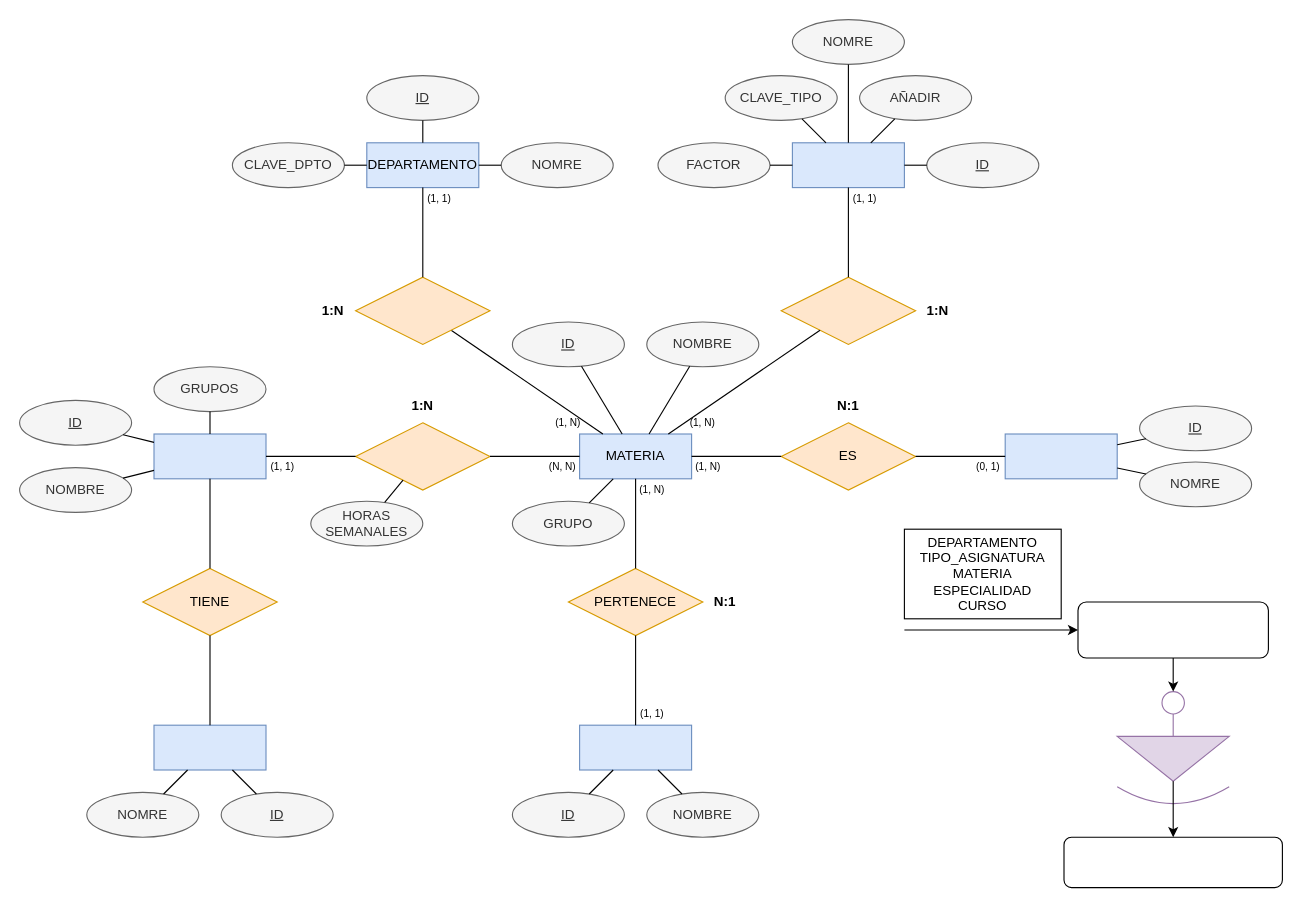
This 1305x907 diagram has some shape labels left out. The shapes that lost their labels are listed below. From the top down, each one's centre as x and y in pixels, then its label:
(x=847, y=165): TIPO_ ASIGNATURA
(x=422, y=310): DEPENDE
(x=848, y=310): CORRESPONDE
(x=209, y=456): CURSO
(x=422, y=456): CONTIENE
(x=1060, y=456): OPTATIVA
(x=1172, y=629): VISTA_MATERIAS_CURSOS
(x=209, y=747): TURNO
(x=635, y=747): ESPECIALIDAD
(x=1172, y=862): VISTA_HORAS_DEPARTAMENTOS
